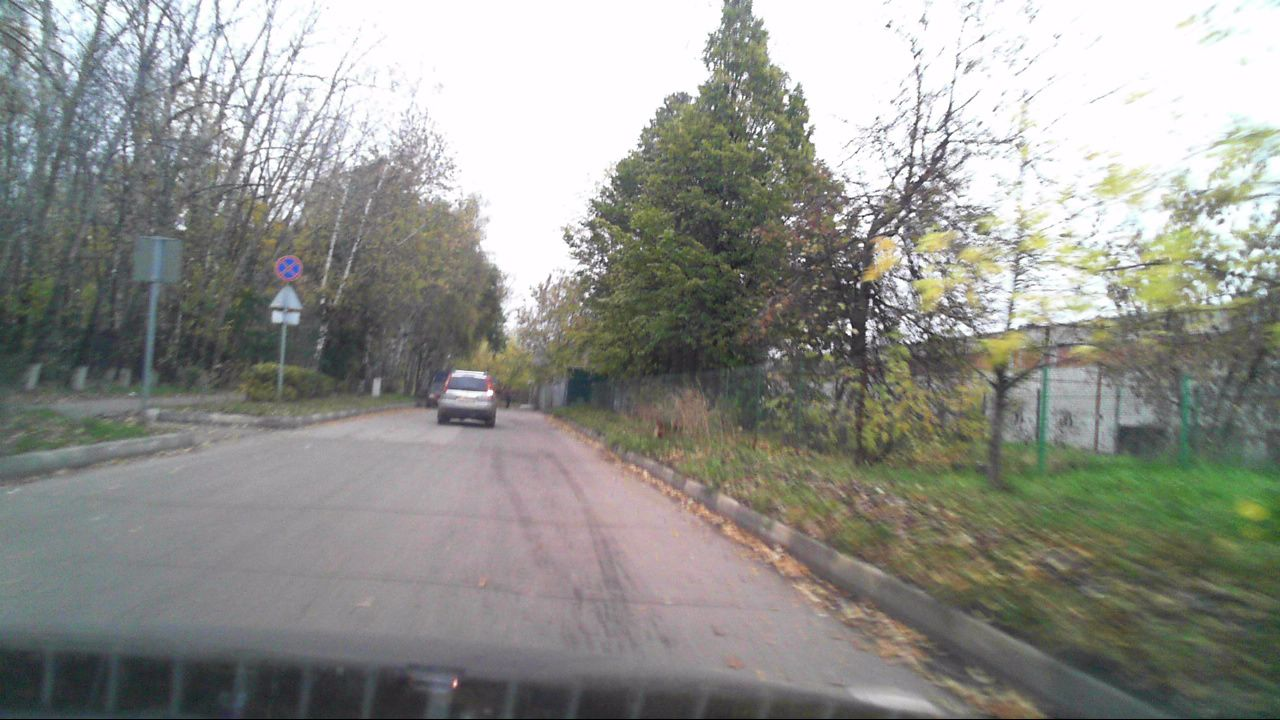No Parking: (274, 255, 304, 283)
